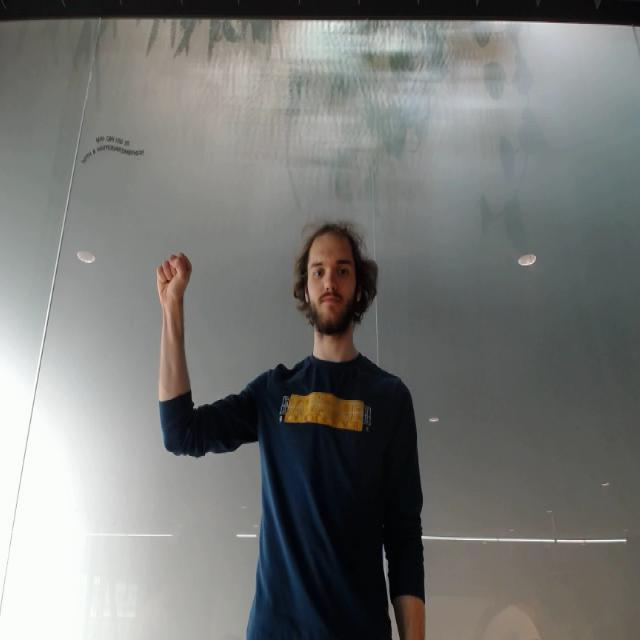stop: (154, 252, 194, 298)
